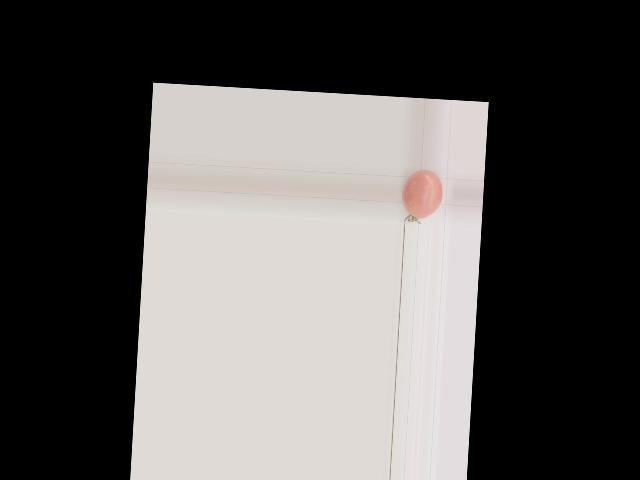tomato: (401, 168, 443, 219)
